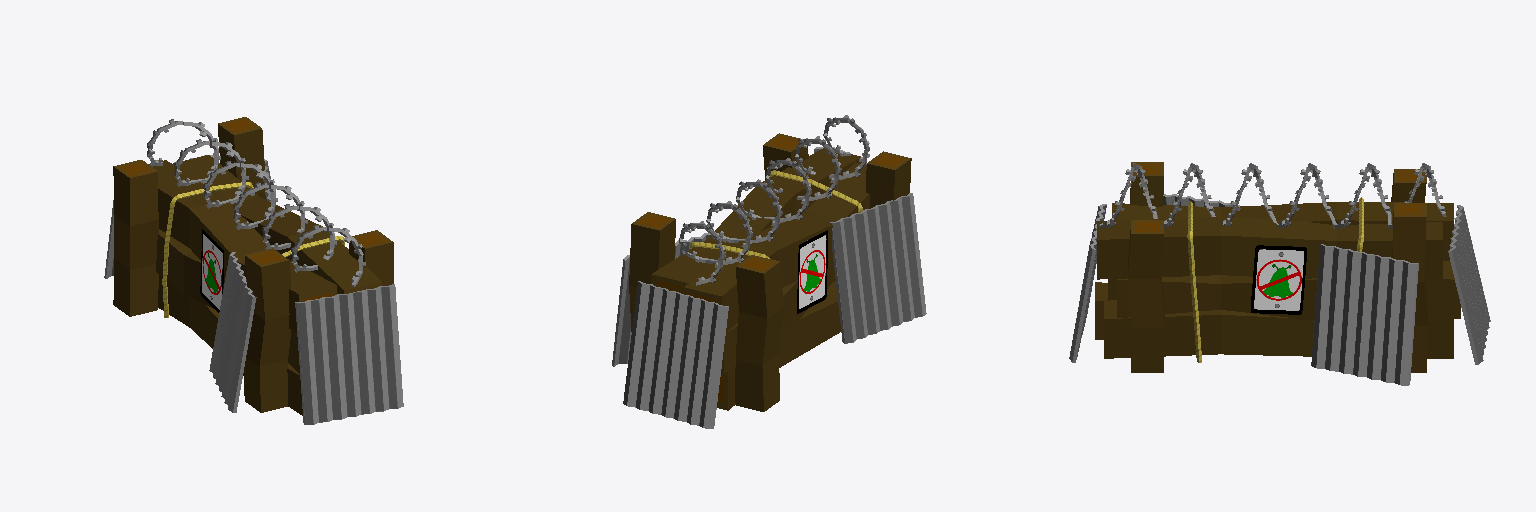
3 views of the same model, side by side, from view 1: azimuth 30°, elevation 25°; view 2: azimuth 150°, elevation 25°; view 3: azimuth 270°, elevation 25° (orthographic).
Visible parts, largest first — view 1: Barricade_Cube.001, Metal_Sheets_Cube, Barbed_Wire_Cube.006; view 2: Barricade_Cube.001, Metal_Sheets_Cube, Barbed_Wire_Cube.006; view 3: Barricade_Cube.001, Metal_Sheets_Cube, Barbed_Wire_Cube.006.
Boxes of the visible parts, x1=… form: Barricade_Cube.001: x1=113, y1=117, x2=393, y2=415; Metal_Sheets_Cube: x1=104, y1=155, x2=403, y2=424; Barbed_Wire_Cube.006: x1=147, y1=119, x2=365, y2=286; Barricade_Cube.001: x1=629, y1=133, x2=911, y2=411; Metal_Sheets_Cube: x1=612, y1=147, x2=926, y2=428; Barbed_Wire_Cube.006: x1=679, y1=115, x2=869, y2=285; Barricade_Cube.001: x1=1095, y1=162, x2=1460, y2=372; Metal_Sheets_Cube: x1=1069, y1=194, x2=1490, y2=385; Barbed_Wire_Cube.006: x1=1099, y1=163, x2=1446, y2=228.
Bounding box in the file's own units: 5.5 × 4.98 × 10.93.
3 materials, 2 textured.